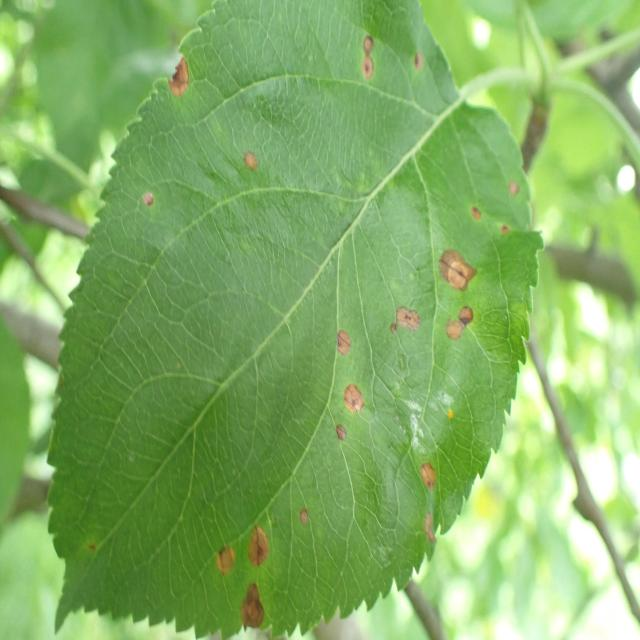Black Rot: (432, 288, 498, 359), (227, 566, 283, 640), (387, 281, 430, 368), (346, 14, 390, 99), (431, 230, 483, 295), (285, 472, 314, 568), (152, 54, 202, 108), (397, 31, 437, 89), (236, 520, 277, 575), (328, 423, 363, 476), (236, 130, 268, 187), (501, 157, 534, 210), (208, 544, 245, 591), (410, 445, 443, 497), (327, 312, 359, 362), (138, 175, 172, 220), (337, 373, 370, 414), (462, 190, 487, 236), (495, 222, 520, 242)
